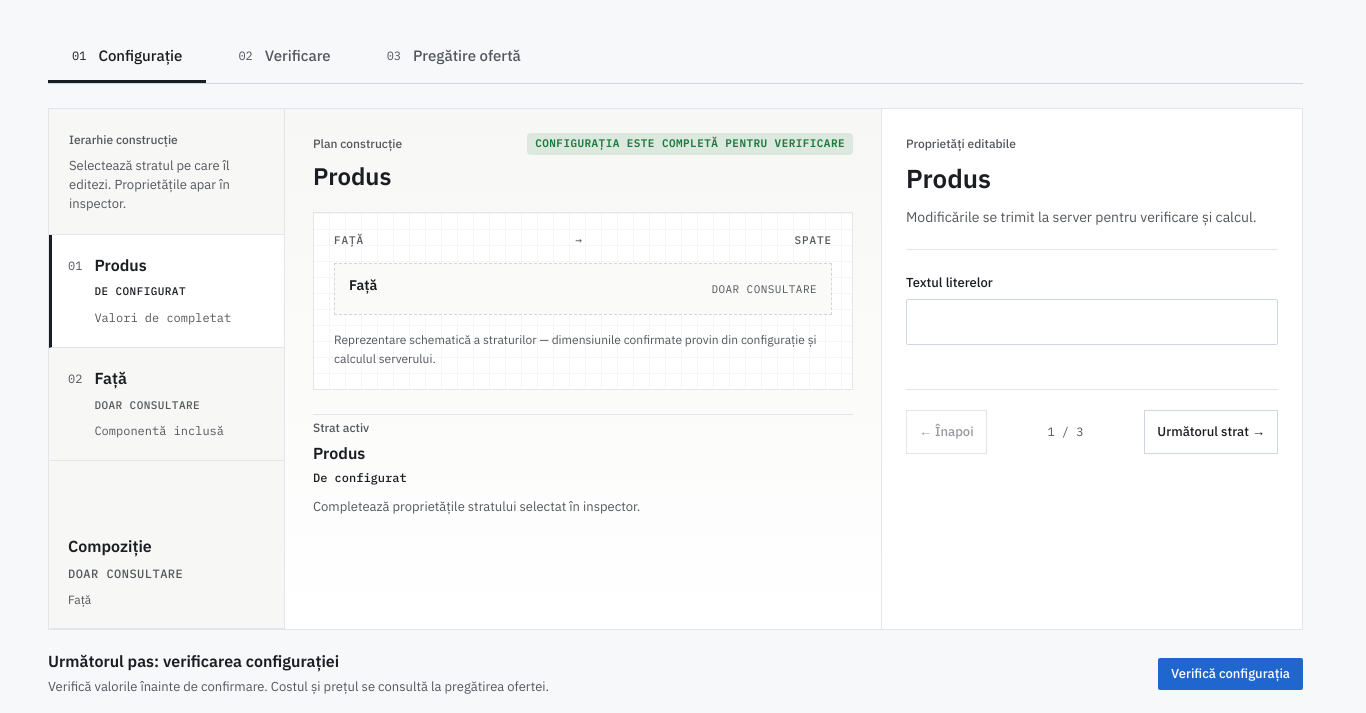
ConfiguratorPage › keeps cost details closed after explicit technical confirmation
The image size is (1366, 713).
(page scrolled)
Expected: the field labelled "Textul literelor" is shown, [906,299,1278,345]
Click the button "Verifică configurația" at [1230, 674], box [1158,652,1303,696]
(page scrolled)
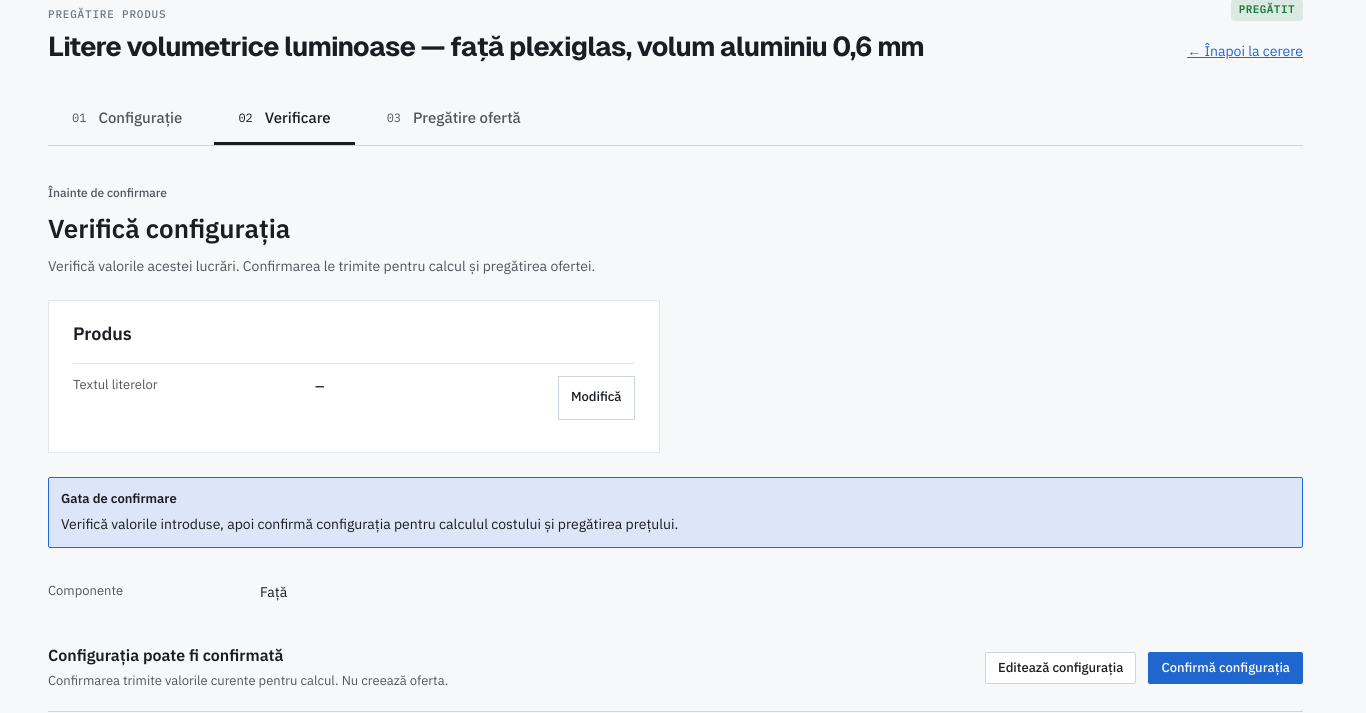
Click the button "Confirmă configurația" at [1226, 668], box [1148,646,1303,690]
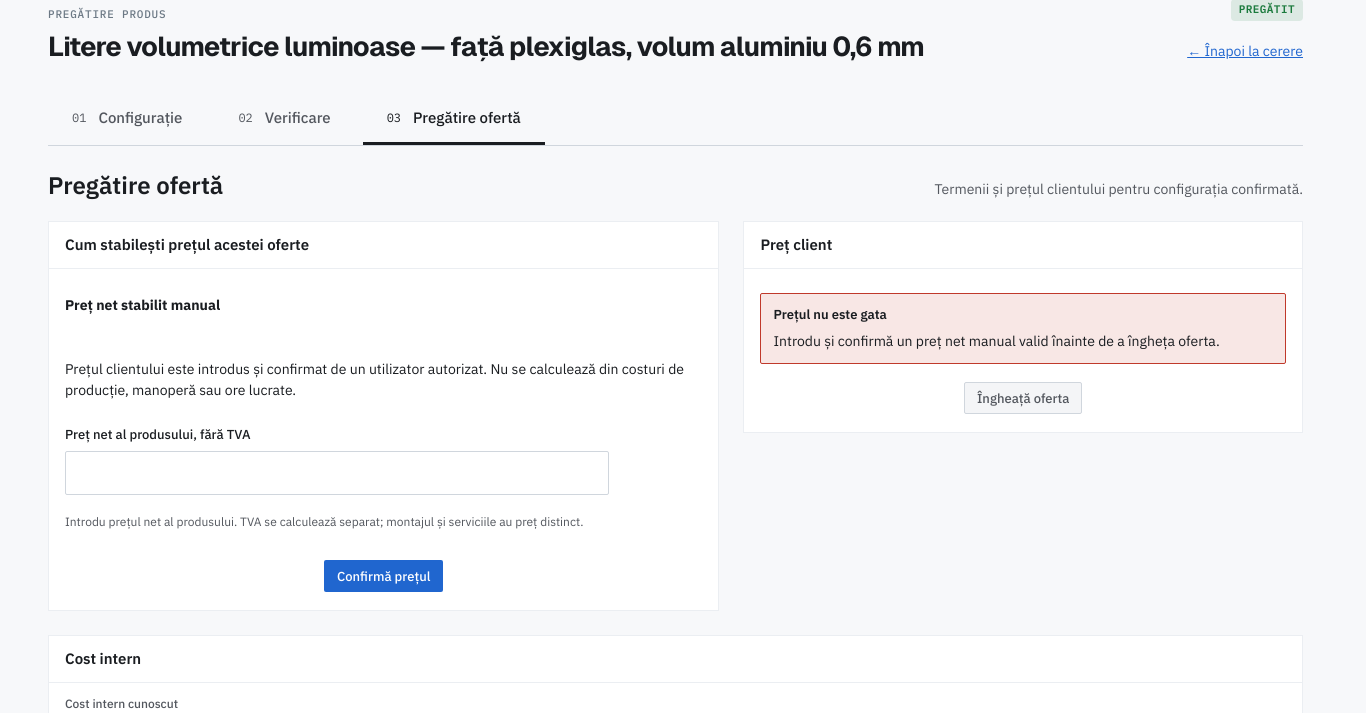
Result: the heading "Cost intern" is shown at [65,649,141,668]
Click the tab "01 Configurație" at [127, 119], box [48,93,206,145]
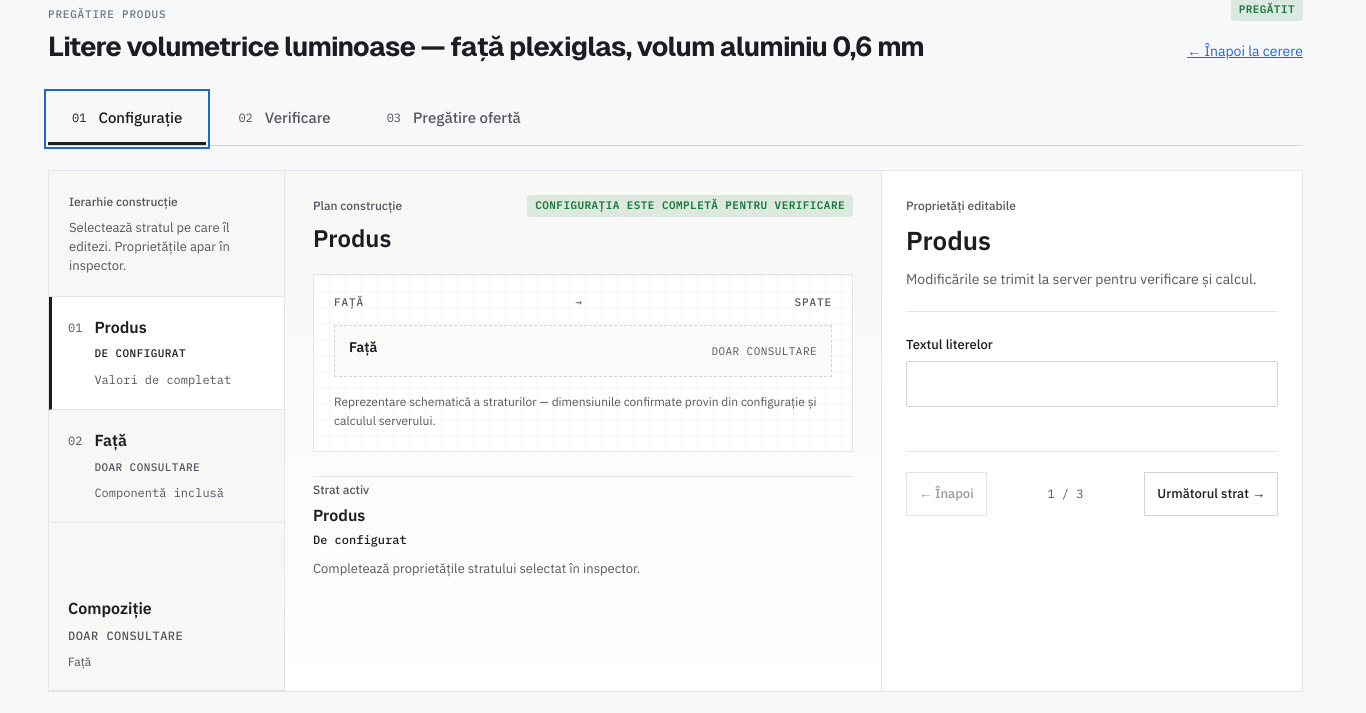
Result: the heading "Cost intern" is gone
Result: the field labelled "Textul literelor" is shown at [906,361,1278,407]
